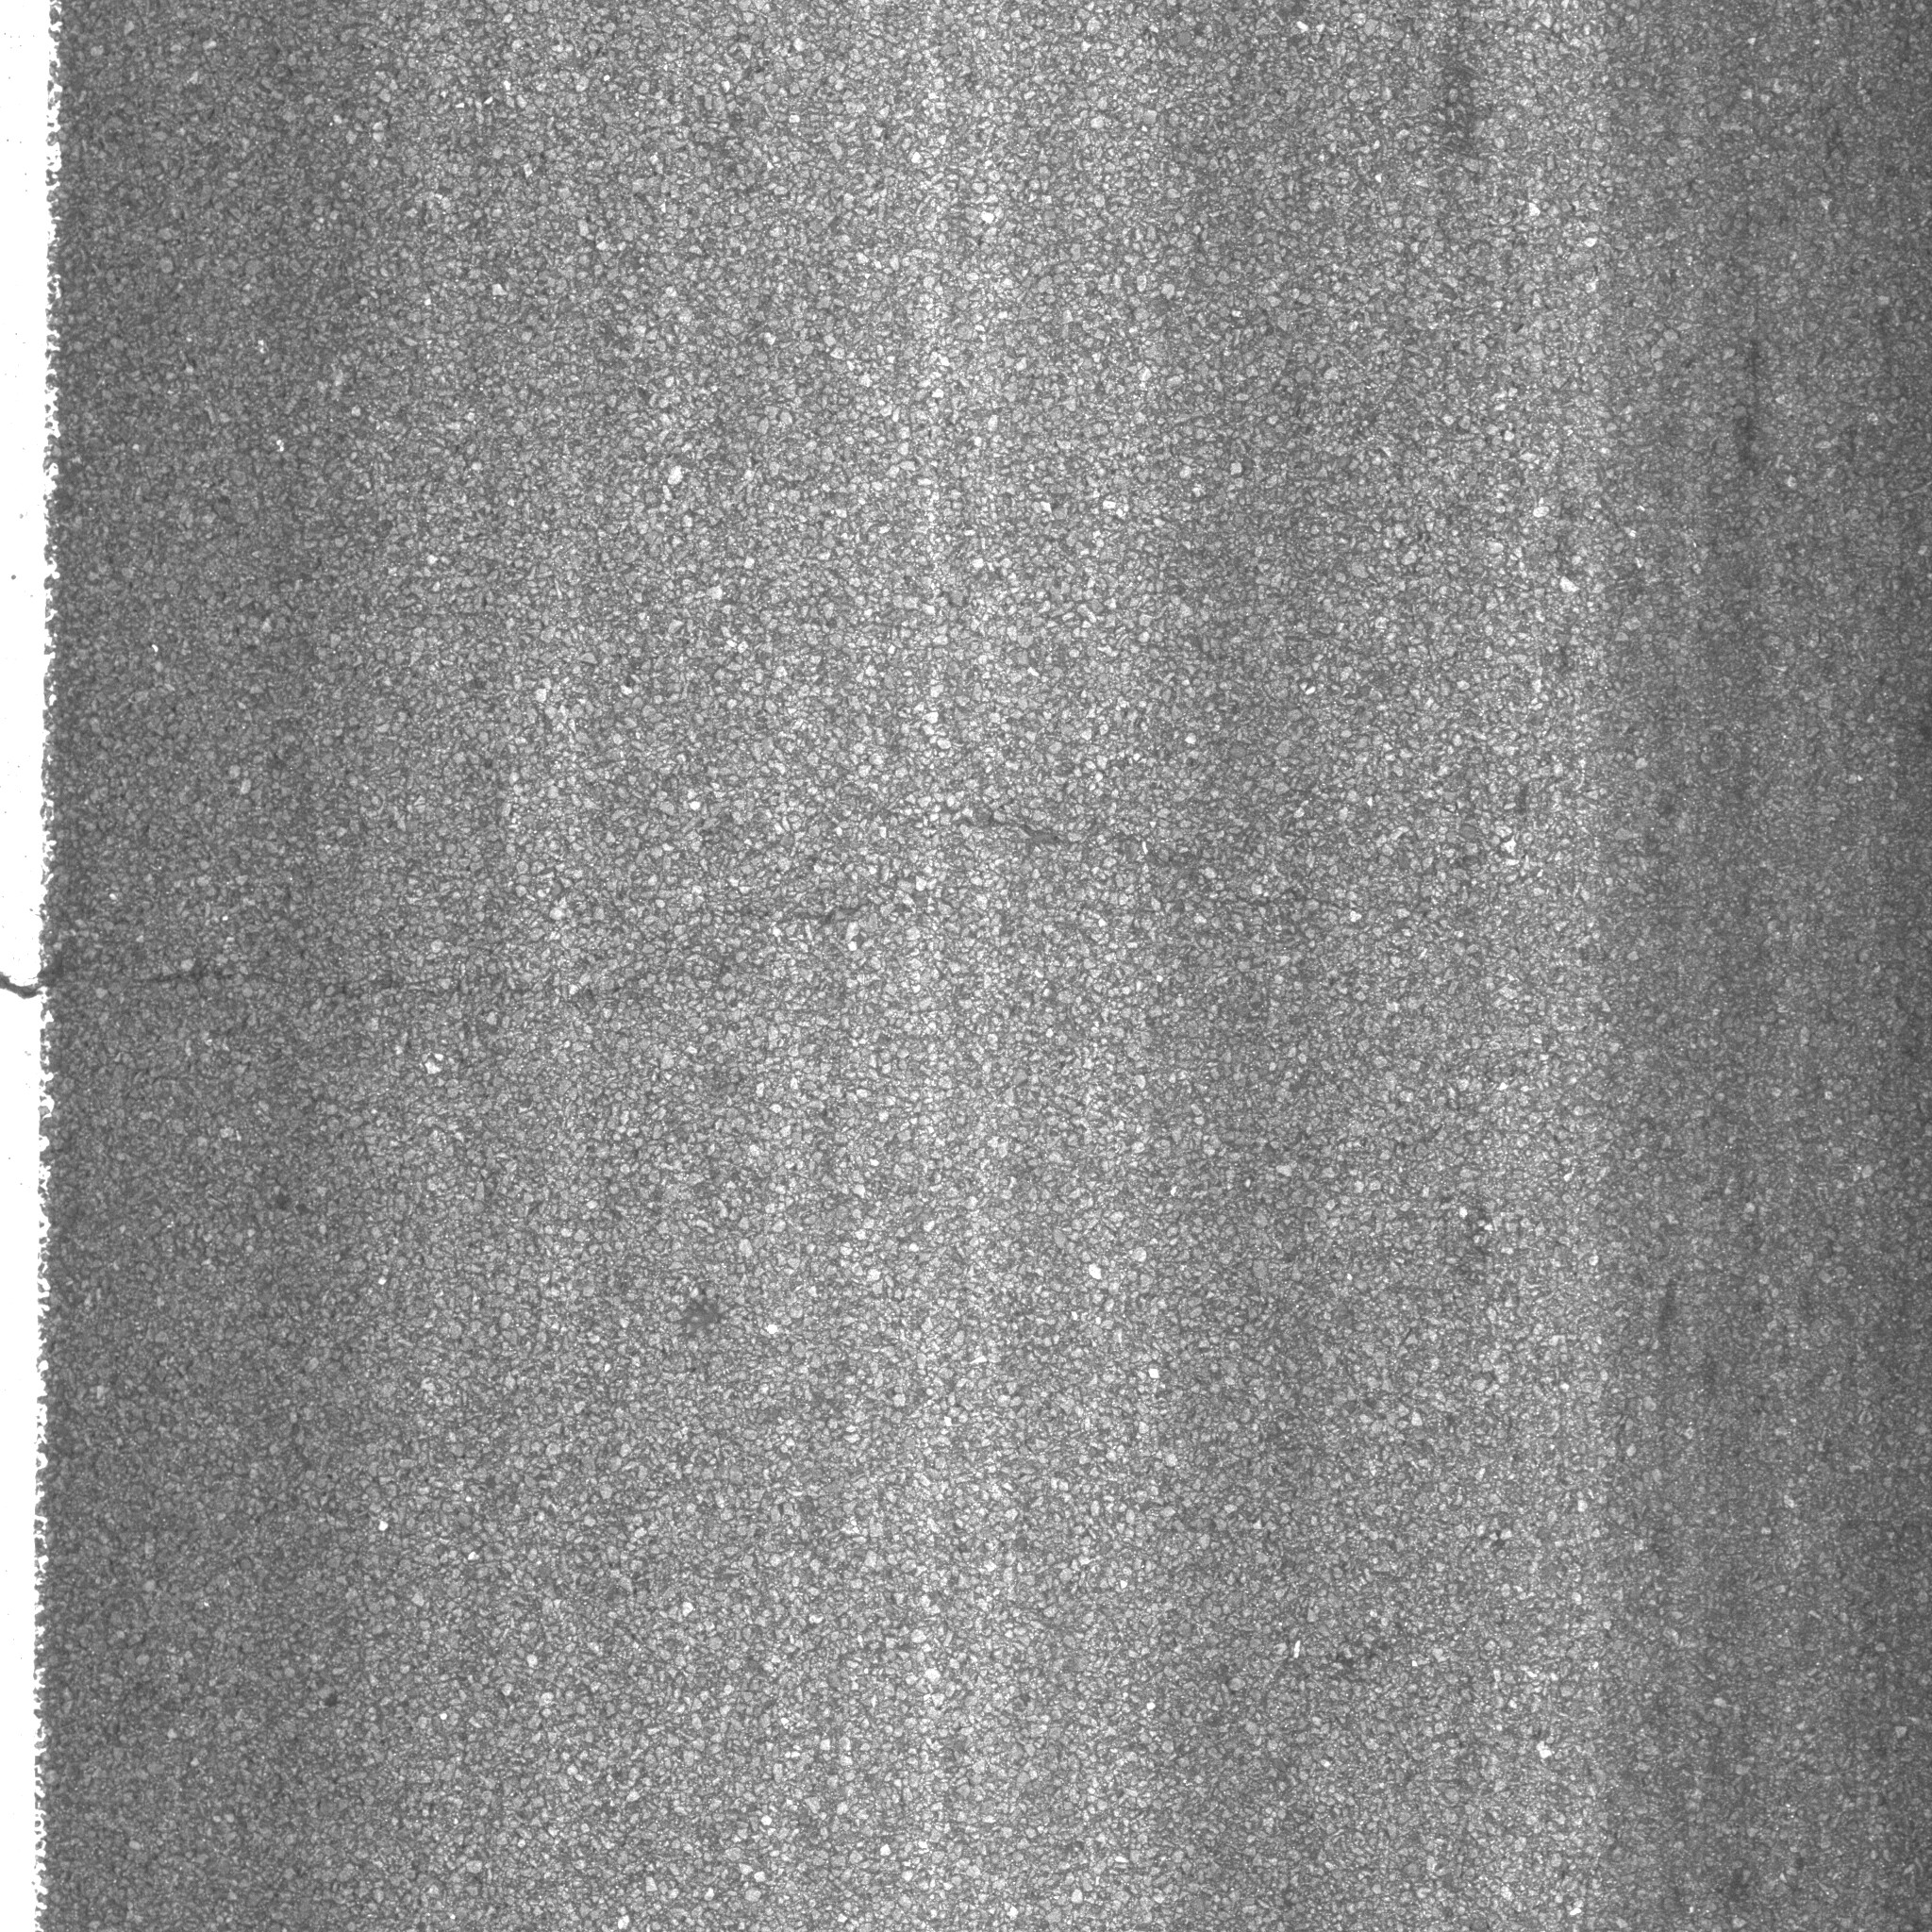transverse: (74, 789, 1405, 998)
